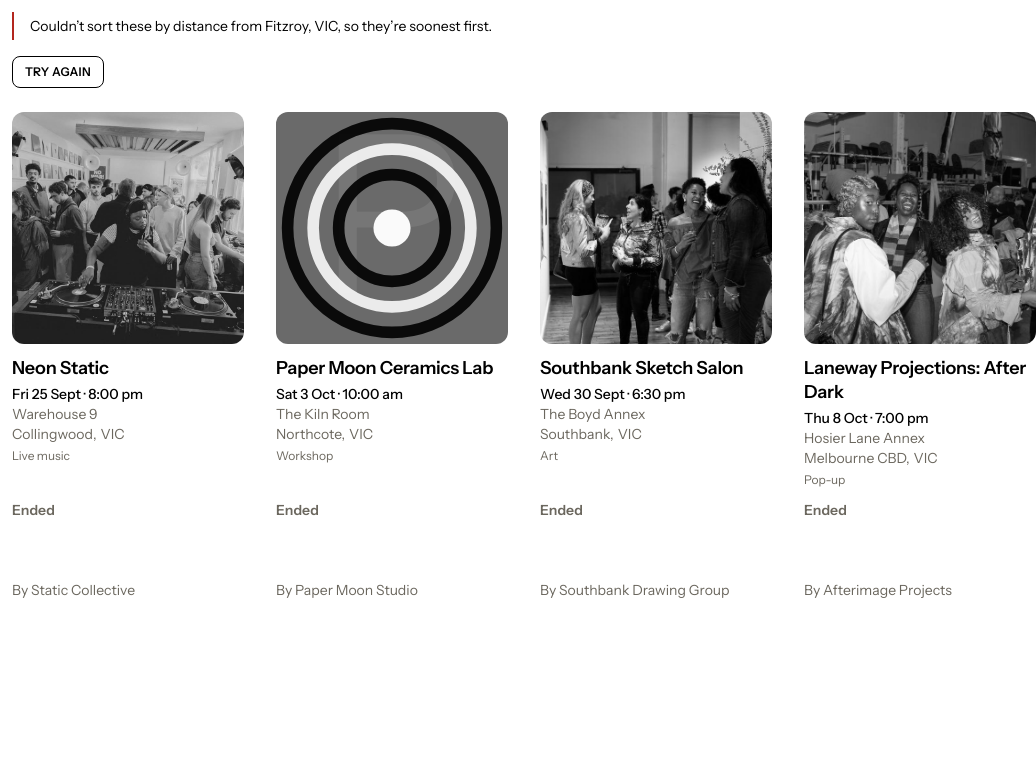
Test: NearbyResults — the suburb table loads on demand › if it can't load: says so, still lists every event (soonest first), and Try again retries
Expected: the message reads "Couldn’t sort these by distance from Fitzroy, VIC, so they’re soonest first.", x1=12 y1=12 x2=492 y2=40
Expected: the number of headings is 4, x1=12 y1=357 x2=109 y2=379; x1=276 y1=356 x2=508 y2=380; x1=540 y1=356 x2=772 y2=380; x1=804 y1=356 x2=1035 y2=404
Click the button "Try again" at [58, 72], box x1=12 y1=56 x2=104 y2=88
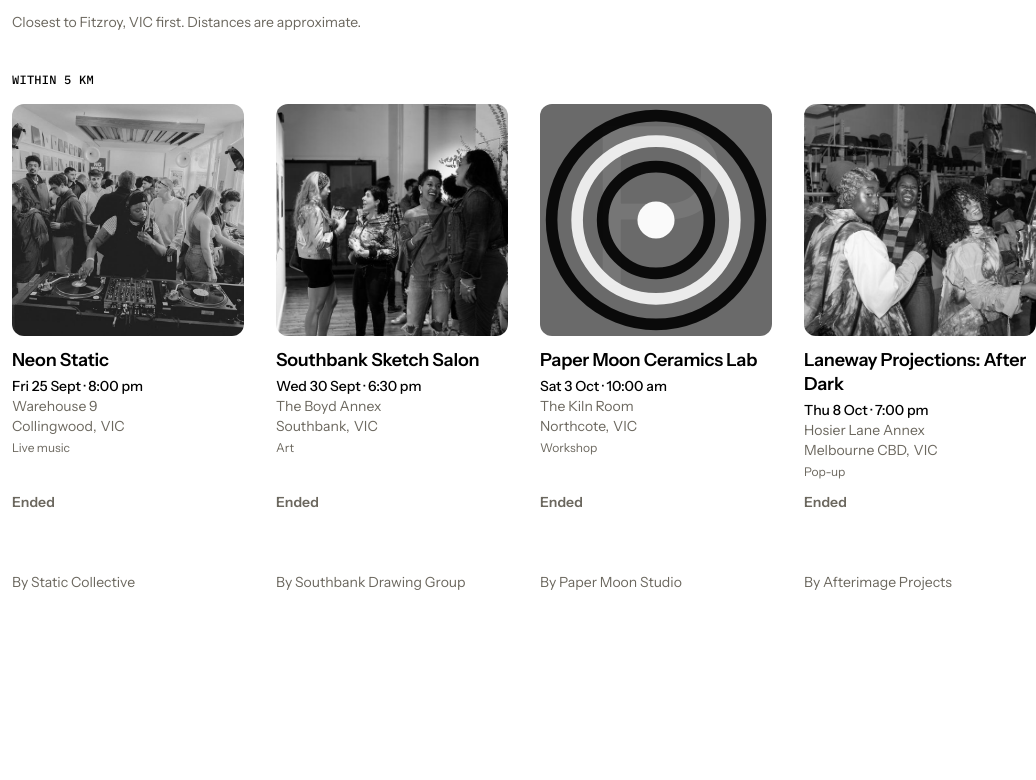
Now the text "Closest to Fitzroy, VIC first. Distances are approximate." is shown, box x1=12 y1=13 x2=361 y2=31
Now the message "Couldn’t sort these by distance from Fitzroy, VIC, so they’re soonest first." is gone
